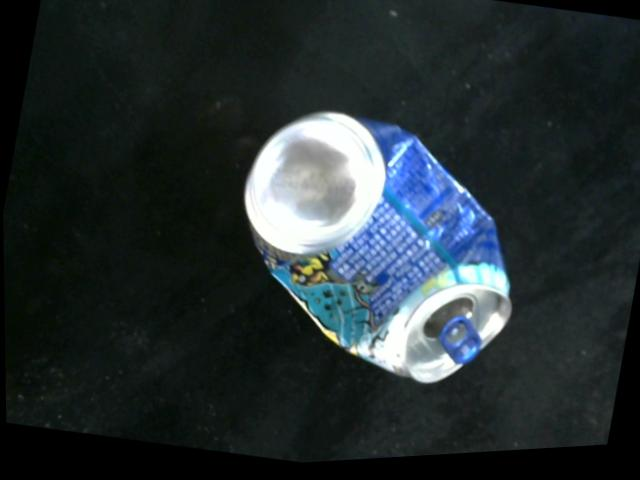can: (240, 114, 514, 387)
